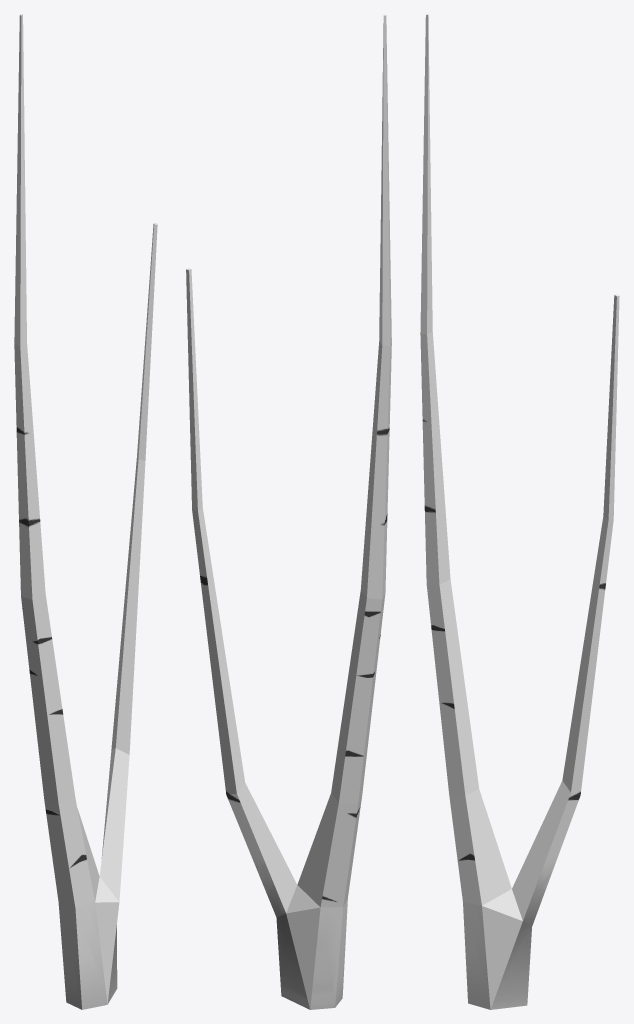
The model's file is Birch_Tree_NoLeaves_m_Snow_07_LOD.fbx.
3 views of the same model, side by side, from view 1: azimuth 30°, elevation 25°; view 2: azimuth 150°, elevation 25°; view 3: azimuth 330°, elevation 25° (orthographic). The views are drawn at different scales.
Parts seen in each view (by area): view 1: Birch_Tree_NoLeaves_m_Snow_07_LOD0; view 2: Birch_Tree_NoLeaves_m_Snow_07_LOD0; view 3: Birch_Tree_NoLeaves_m_Snow_07_LOD0.
Part boxes in pixels (x1,y1,x2,y2): Birch_Tree_NoLeaves_m_Snow_07_LOD0: [14, 14, 157, 1009]; Birch_Tree_NoLeaves_m_Snow_07_LOD0: [186, 14, 391, 1009]; Birch_Tree_NoLeaves_m_Snow_07_LOD0: [420, 14, 619, 1009].
Size of what is drawn, in the model's own units: 121 by 670 by 55.79.
